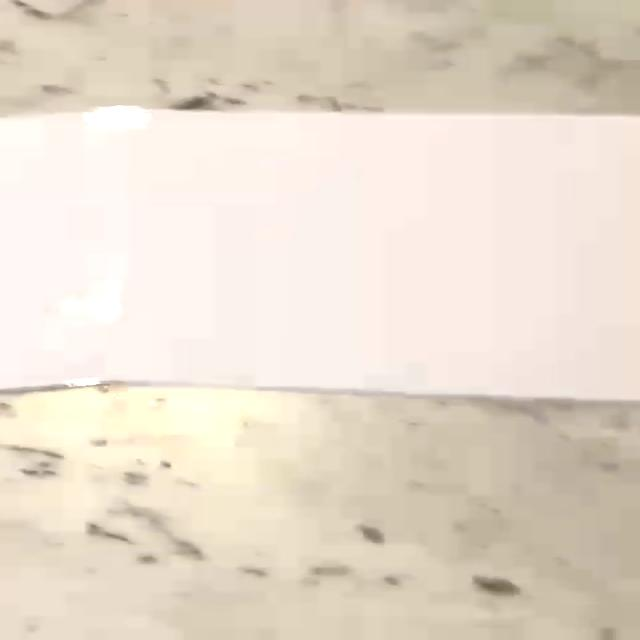road: (3, 106, 637, 399)
